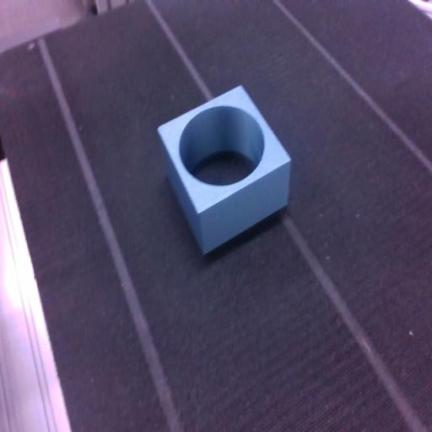square: (158, 87, 291, 253)
